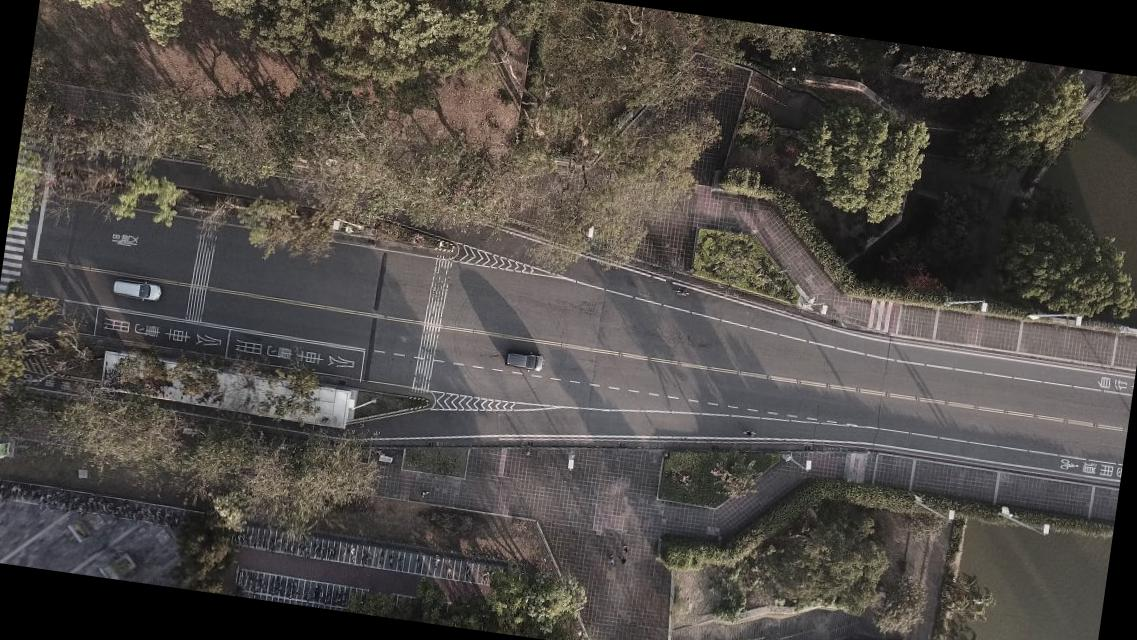vehicle: (111, 276, 163, 303), (503, 348, 544, 374)
